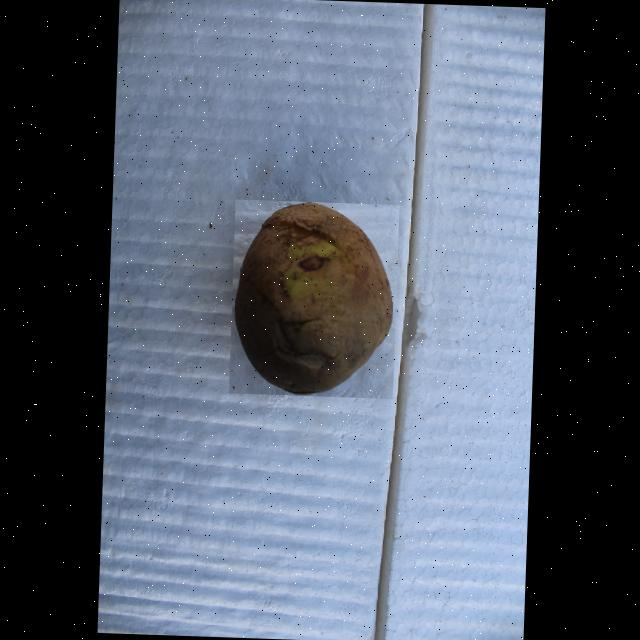Diseased-fungal potato: (227, 198, 398, 398)
